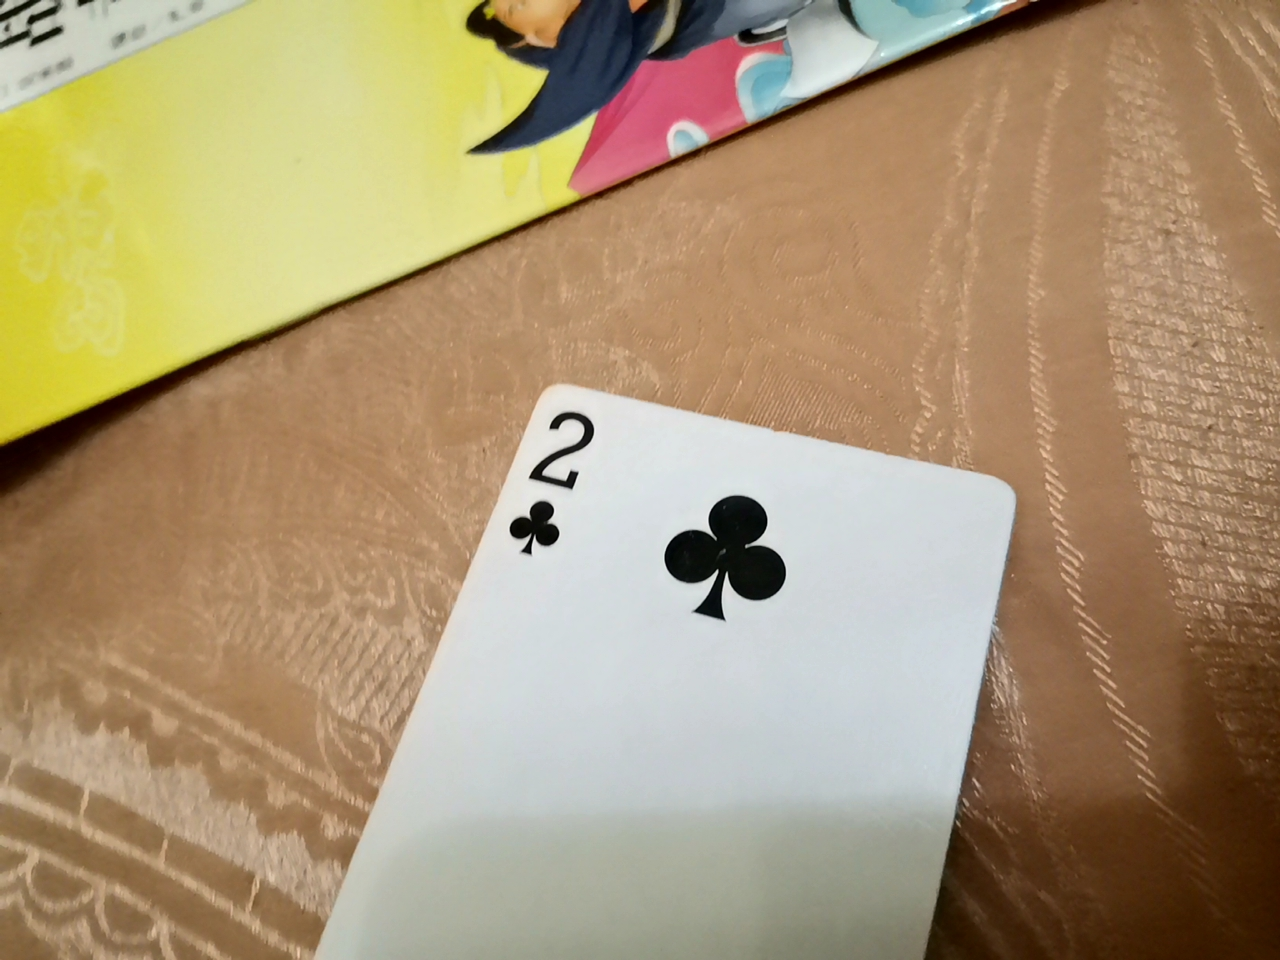mh 2: (351, 427, 1034, 923)
